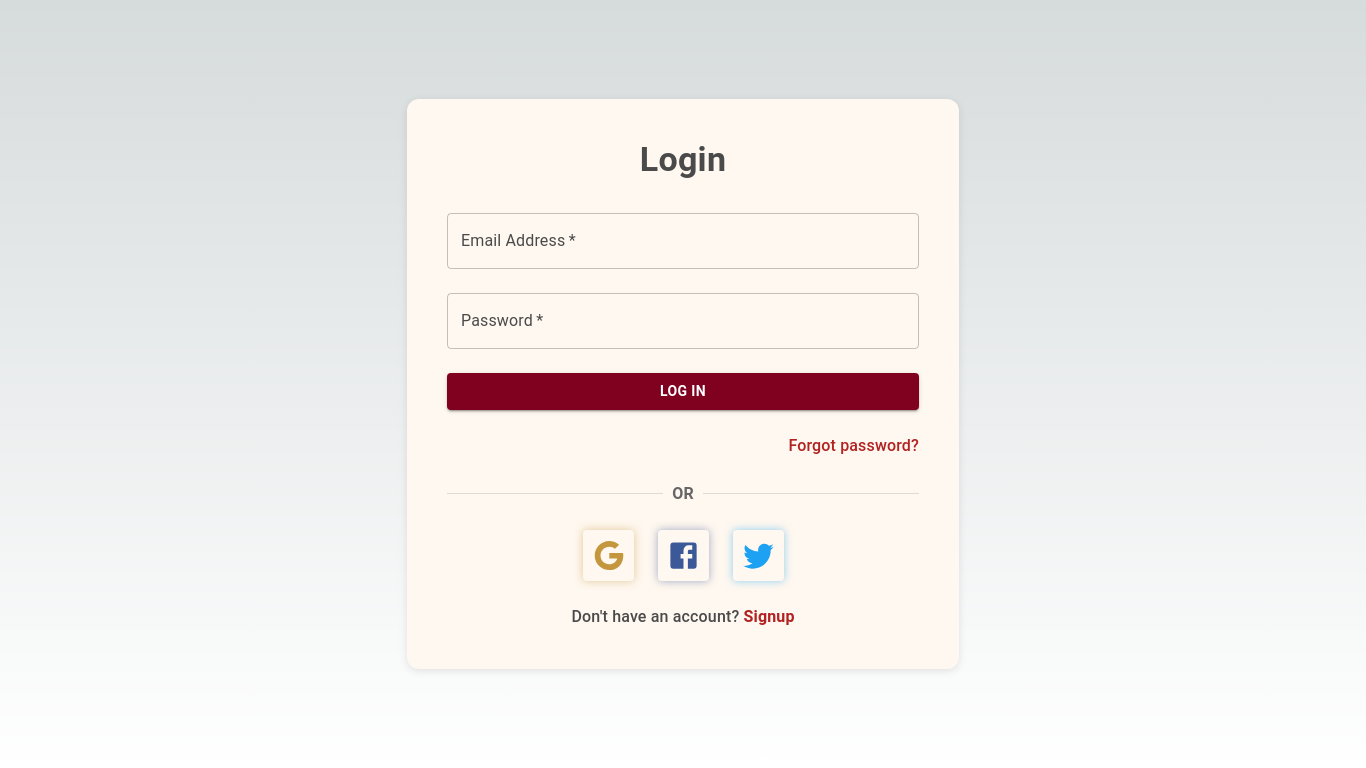
Test: LoginPage › shows error on failed login
This screenshot has width=1366, height=768.
Type "test@example.com" into the field labelled "Email Address *". click: (683, 241)
box: [447,213,919,269]
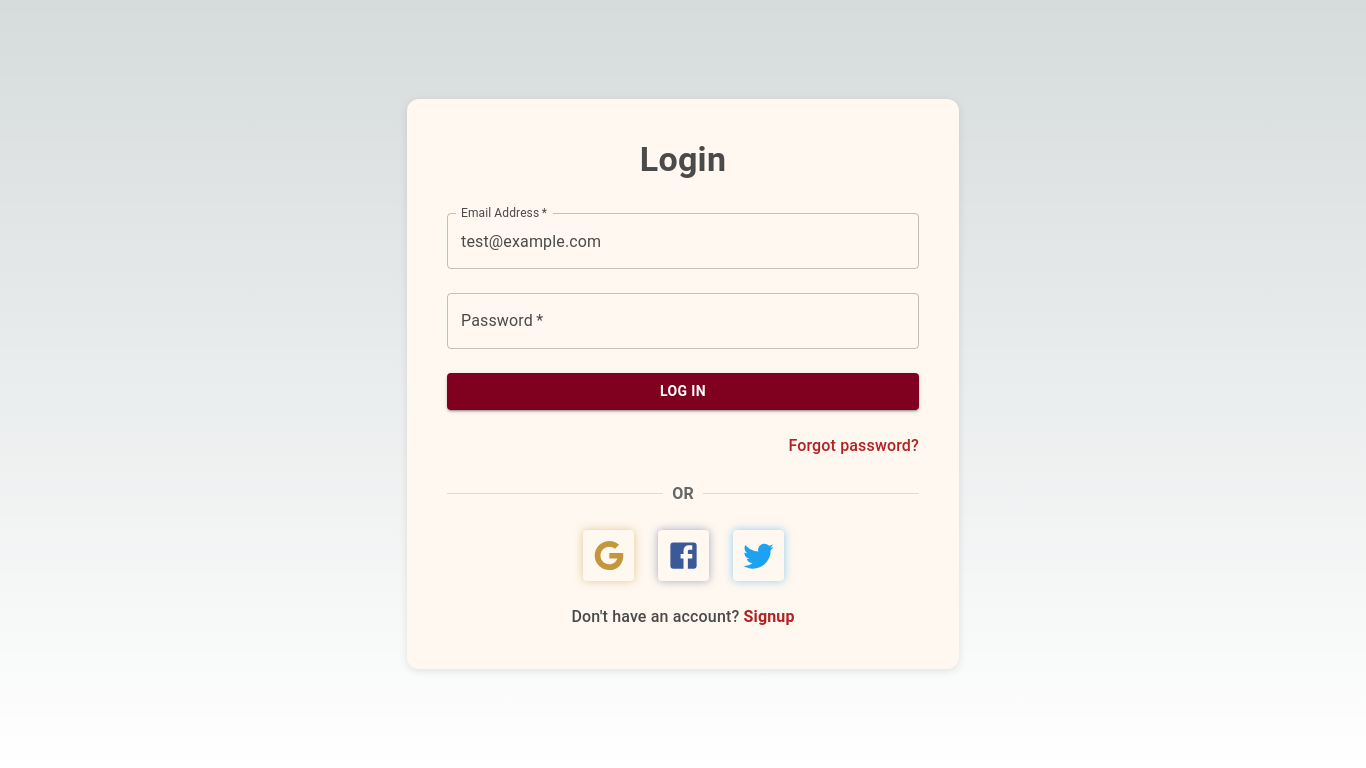
Type "wrongpassword" into the password field labelled "Password *". click: (683, 321)
box: [447,293,919,349]
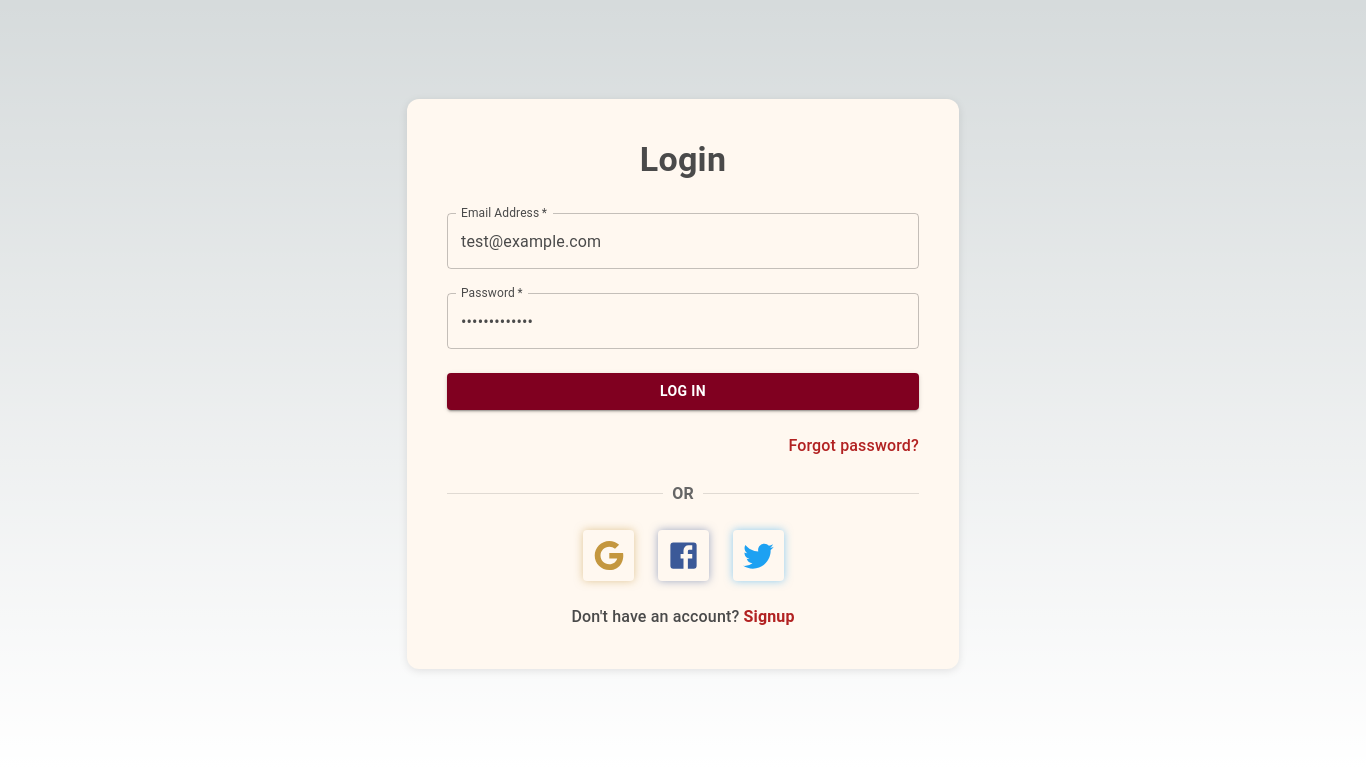
Click the button "Log In". click: (683, 391)
box: [447,373,919,410]
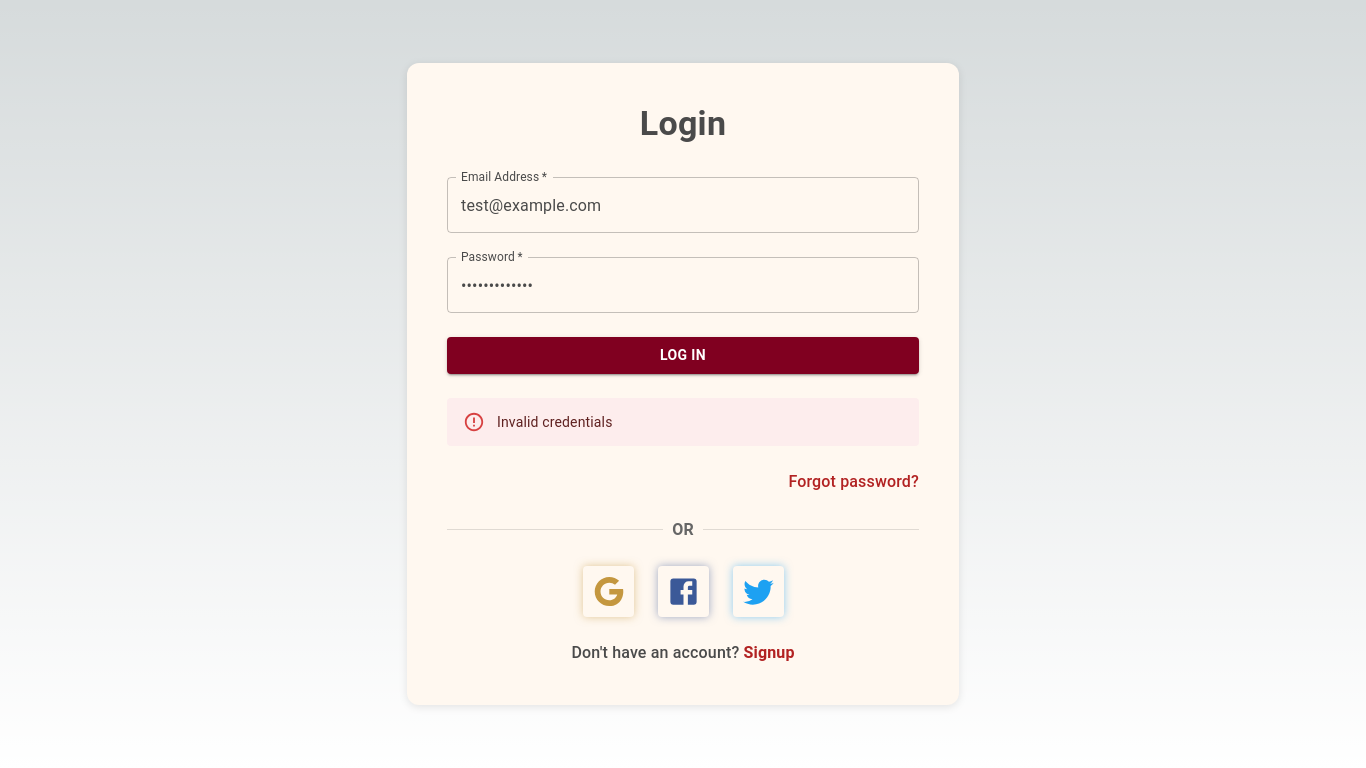
Check: the text "Invalid credentials" is shown, box [497,414,612,430]
